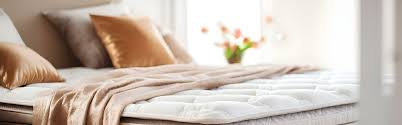bed-matress: (1, 63, 362, 124)
